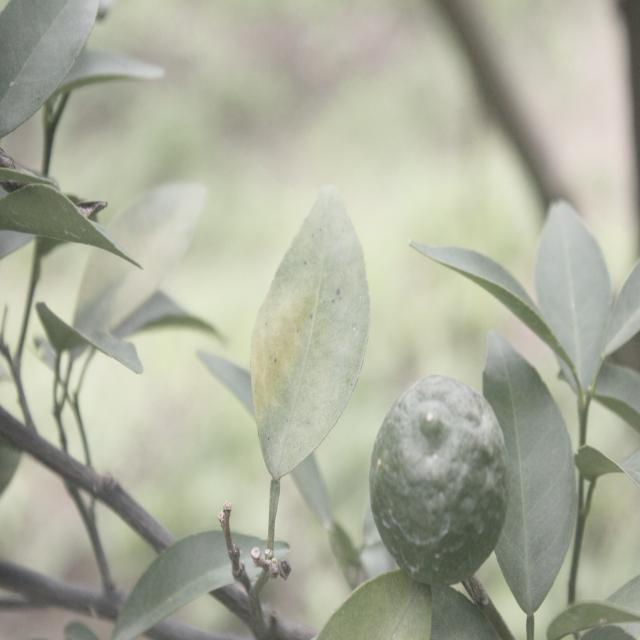blackspot: (252, 199, 374, 457)
